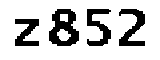2: (115, 5, 150, 51)
5: (82, 4, 115, 48)
8: (47, 6, 80, 48)
z: (12, 13, 43, 50)
